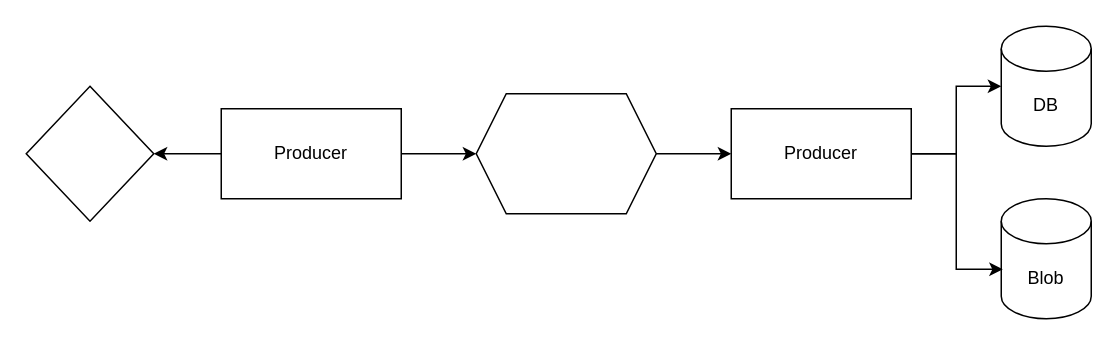
Image size: 1118x345. Some labels were removed from this diagram. The centre of each missing label's shape, as x and y in pixels:
External Weather API: (89,153)
Queue: (565,153)
